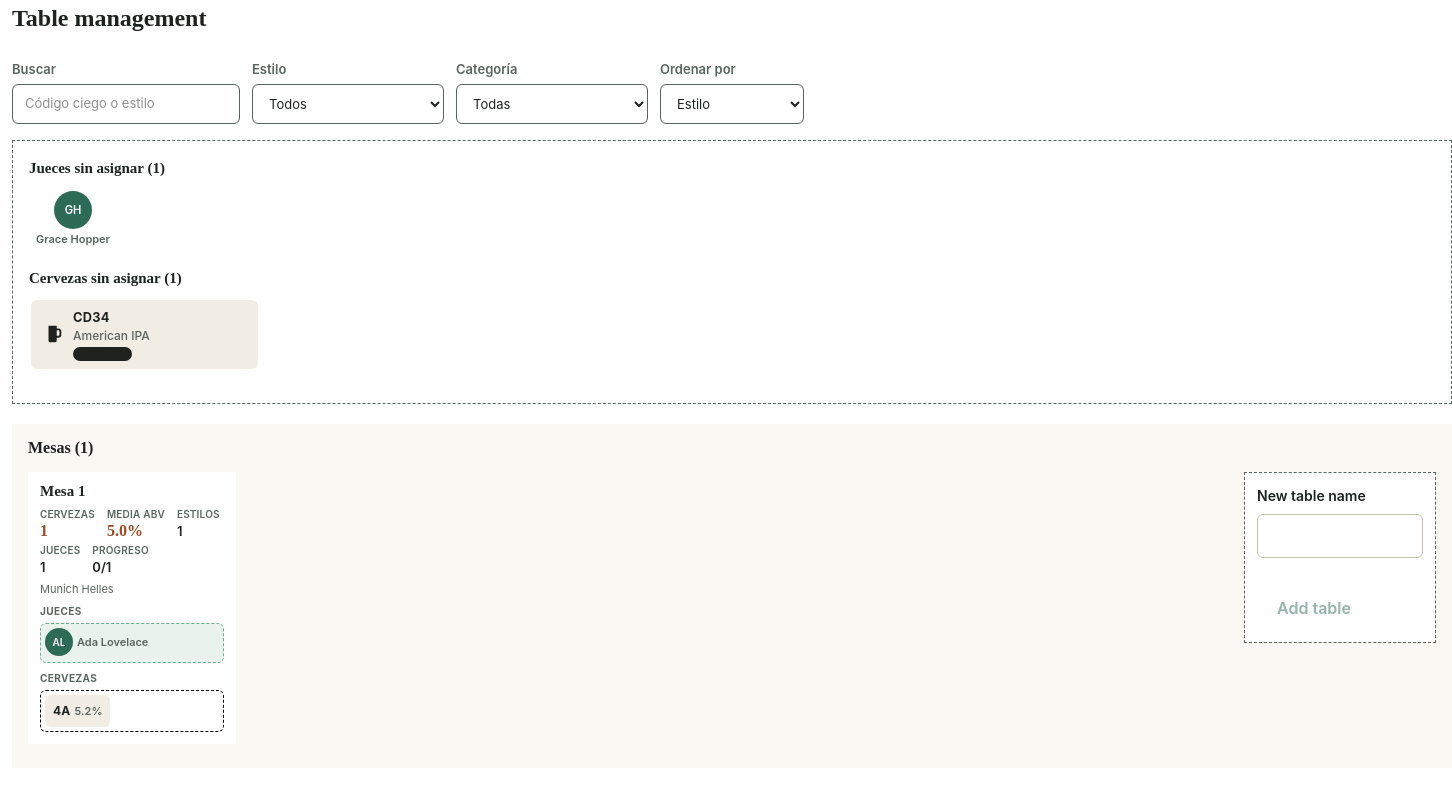
Test: TableBoardComponent › creates a table with an empty judge/entry set and appends it
Type "Mesa 2" into the field with id "new-table-name". click: (1340, 536)
box: x1=1257 y1=514 x2=1423 y2=558
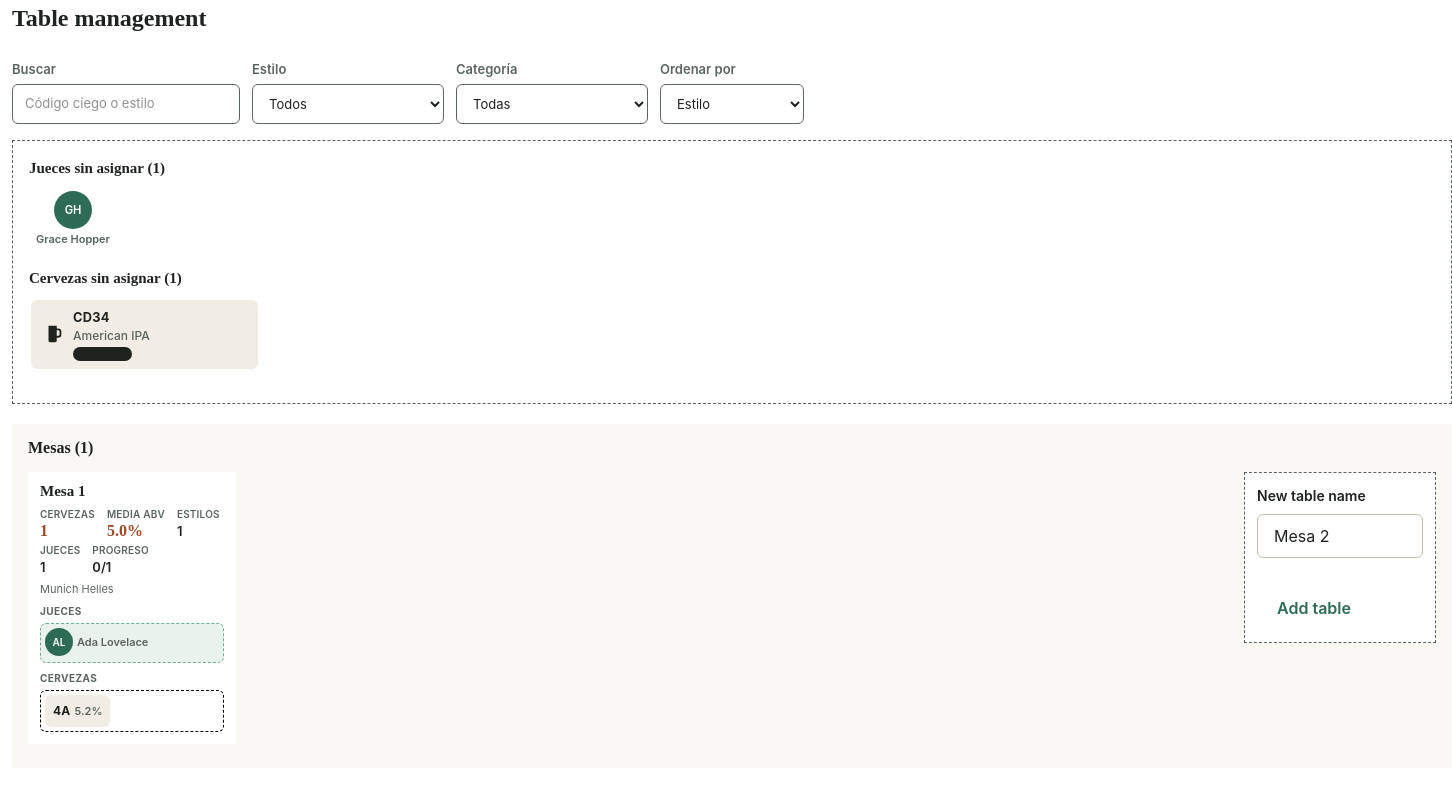
Click the button "Add table". click: (1314, 608)
box: x1=1257 y1=586 x2=1371 y2=630
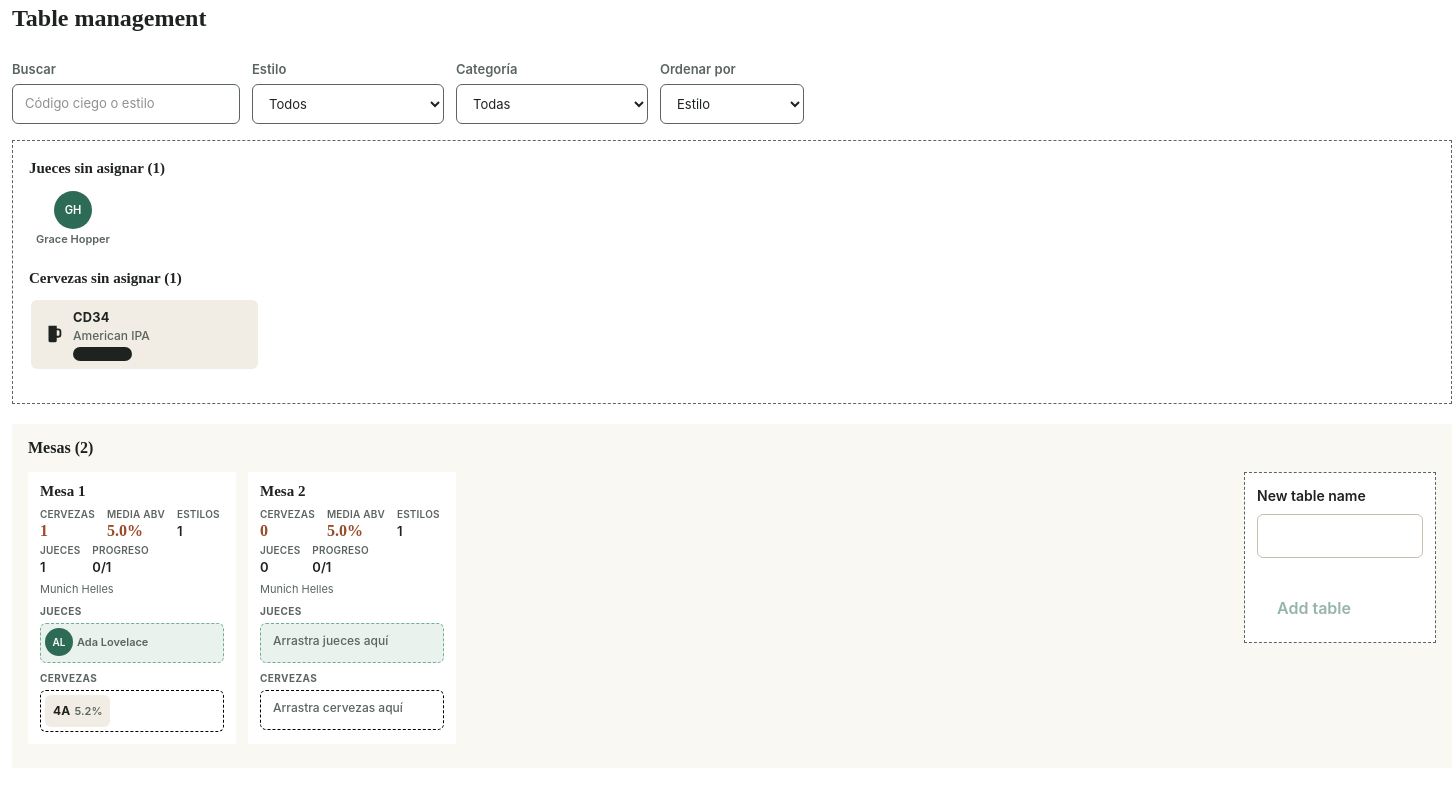
Expected: the element that starts with "Mesa 2" is shown, x1=248 y1=472 x2=456 y2=744
